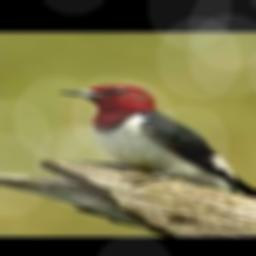Woodpecker: (57, 84, 256, 197)
